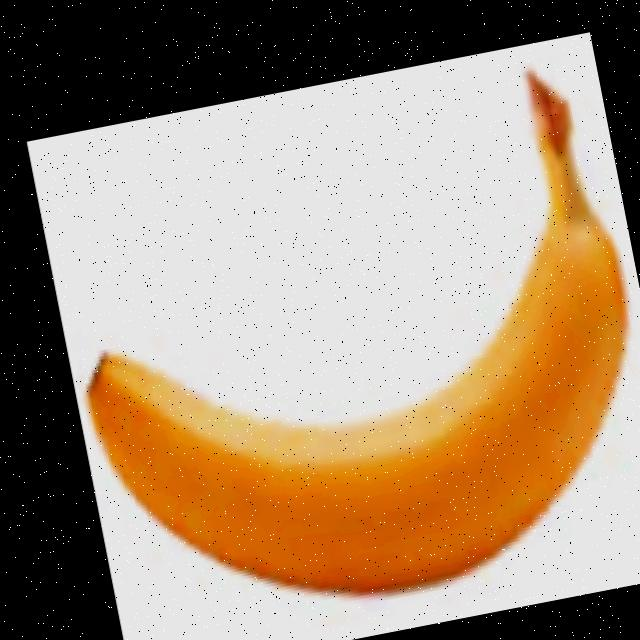Ripe: (36, 55, 640, 640)
